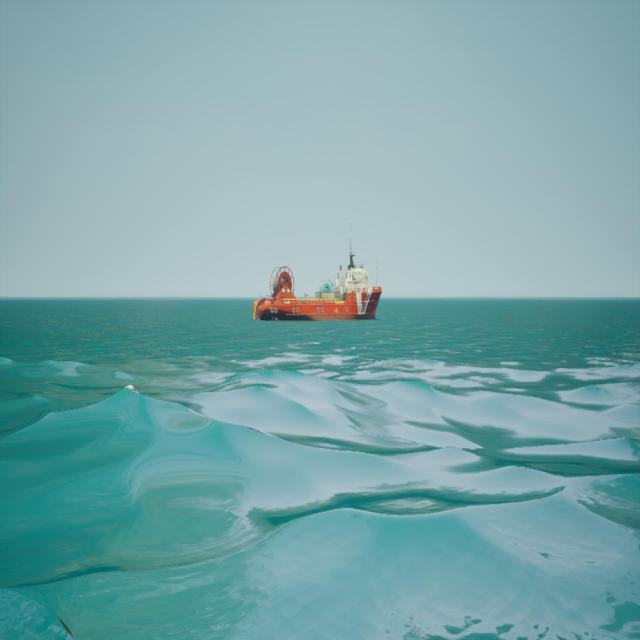tug boat: (254, 223, 383, 324)
